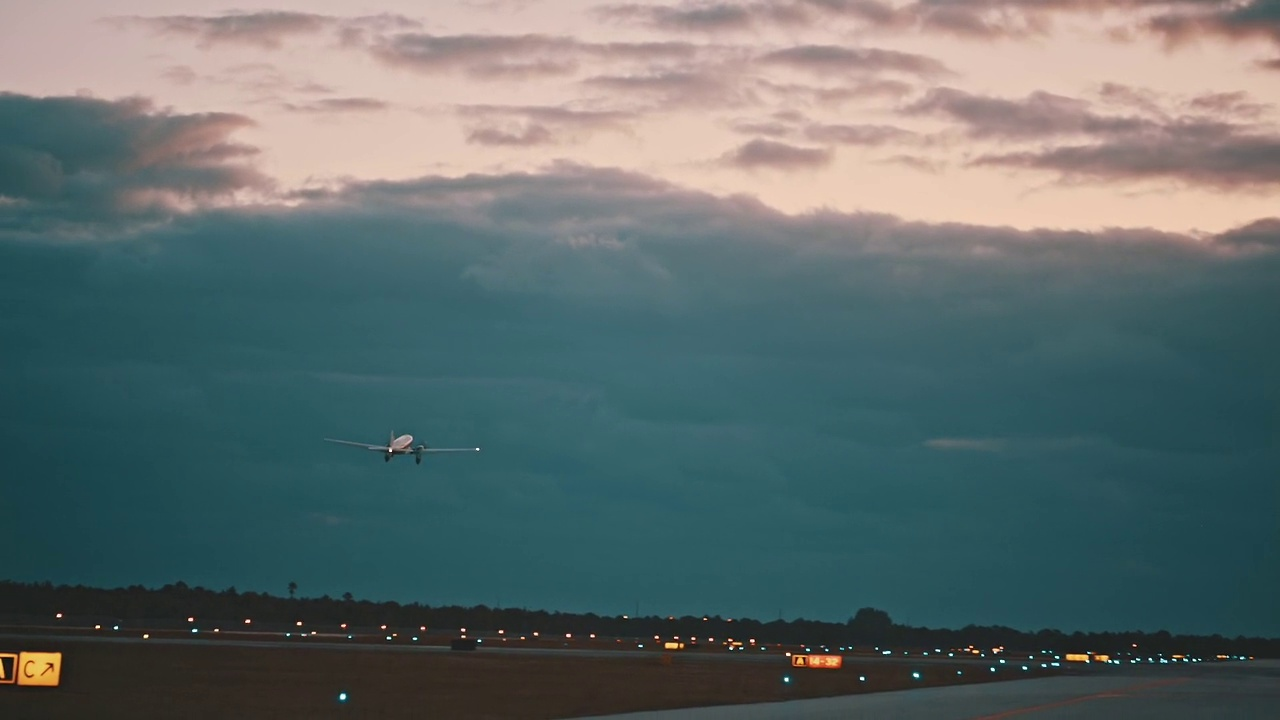plane: (324, 429, 480, 466)
